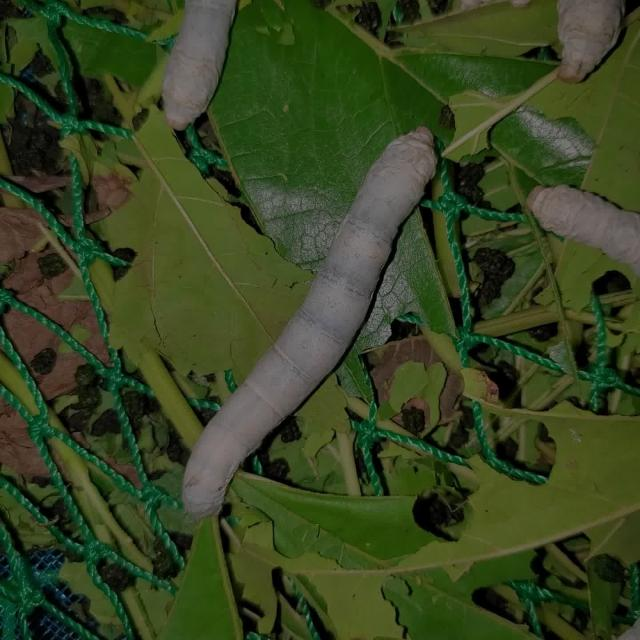Healthy: (165, 111, 482, 530)
